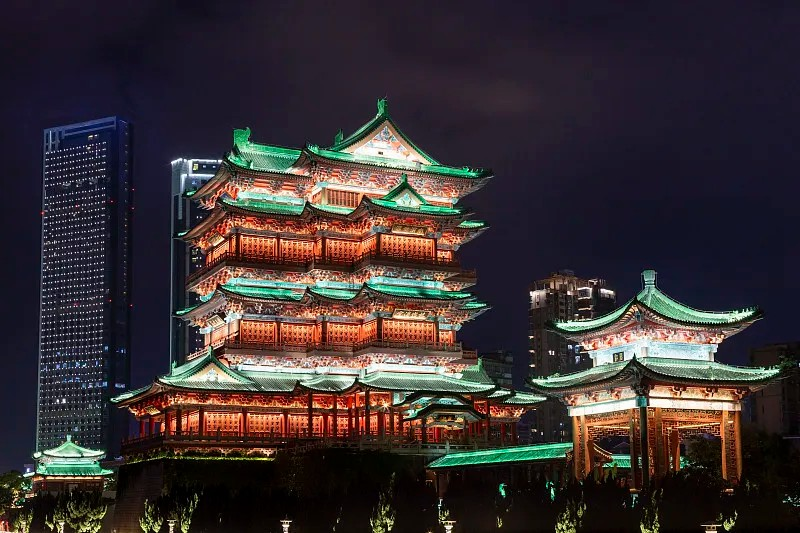Teng: (110, 96, 550, 456)
